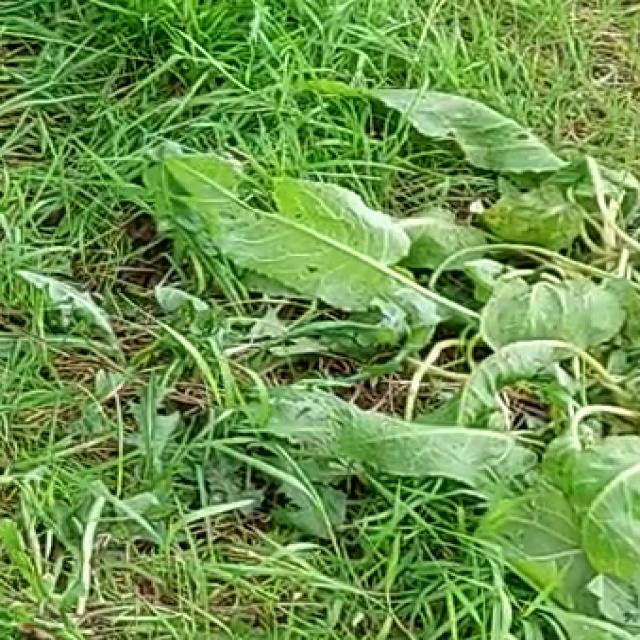organic waste: (138, 65, 640, 640)
